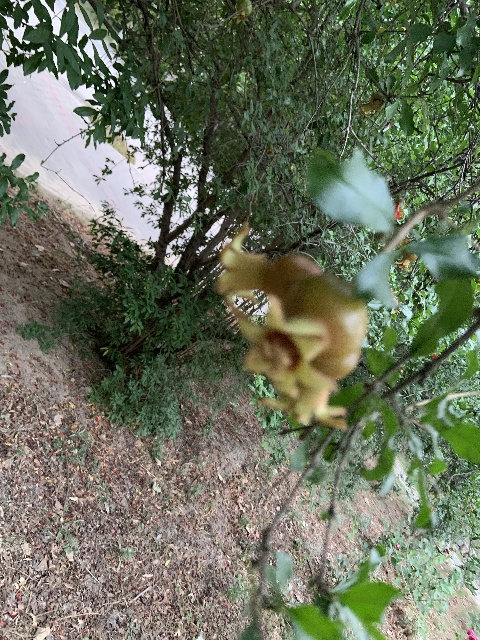early-fruit: (230, 274, 366, 395), (215, 221, 323, 312), (260, 347, 359, 428), (395, 244, 418, 271), (360, 94, 384, 115)
mid-growth: (230, 0, 252, 24)
